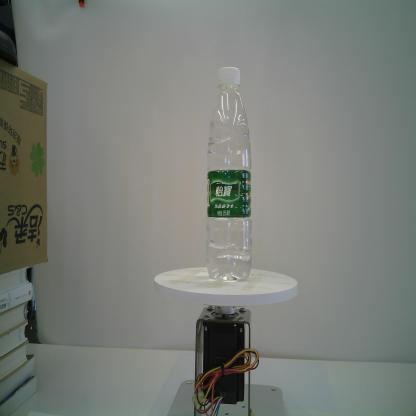Drink: (206, 65, 253, 283)
